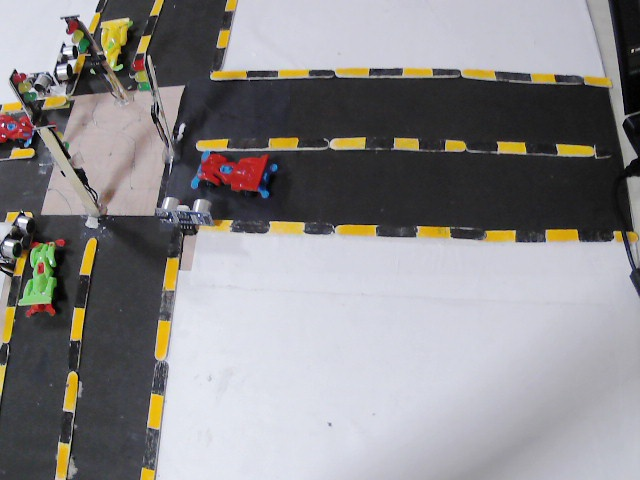black_strip: (136, 426, 158, 466), (61, 337, 86, 371), (227, 136, 274, 152), (5, 273, 25, 306), (72, 275, 94, 305), (53, 413, 75, 442), (375, 223, 417, 238), (154, 291, 173, 324), (295, 134, 333, 150), (150, 361, 167, 395), (131, 39, 154, 63), (524, 138, 557, 154), (494, 70, 531, 84), (301, 221, 335, 236), (419, 138, 447, 156), (452, 225, 487, 239), (369, 66, 400, 81), (249, 69, 281, 83), (365, 136, 396, 150), (206, 47, 227, 67), (554, 71, 581, 86), (580, 227, 613, 239), (433, 66, 463, 79), (518, 228, 547, 241), (467, 140, 498, 151), (309, 68, 337, 79), (255, 221, 276, 235), (146, 10, 162, 26), (218, 13, 236, 27), (1, 396, 5, 452), (71, 60, 82, 78), (95, 0, 109, 14), (0, 345, 11, 360), (0, 145, 11, 158)
car: (17, 235, 70, 319), (197, 153, 271, 199), (96, 14, 136, 73), (0, 115, 34, 144)
mixed_lane: (195, 218, 640, 243), (139, 235, 183, 480), (56, 237, 98, 477), (208, 70, 613, 85), (191, 142, 596, 156), (0, 246, 28, 434), (130, 0, 162, 74), (209, 0, 237, 76), (61, 56, 84, 95), (87, 0, 111, 28), (0, 143, 36, 159), (1, 101, 24, 113)
traffic_light: (38, 120, 82, 180), (7, 66, 49, 120), (61, 6, 97, 67), (146, 91, 169, 141)
uno_breadboard: (0, 208, 40, 268), (163, 196, 211, 226), (54, 39, 76, 84), (24, 70, 55, 93)
yellow_strip: (60, 370, 83, 413), (153, 320, 171, 358), (336, 223, 375, 240), (146, 393, 164, 429), (79, 240, 97, 276), (159, 258, 179, 288), (69, 307, 86, 339), (0, 308, 16, 342), (53, 442, 69, 475), (556, 144, 593, 158), (418, 226, 452, 241), (332, 137, 365, 152), (223, 222, 261, 235), (208, 69, 249, 81), (495, 140, 526, 154), (547, 228, 579, 241), (582, 74, 610, 88), (273, 221, 302, 234), (466, 69, 494, 82), (195, 138, 227, 149), (0, 99, 22, 115), (335, 68, 370, 78), (486, 229, 515, 241), (279, 68, 307, 80), (12, 146, 35, 159), (273, 136, 294, 150), (138, 24, 156, 40), (211, 32, 233, 45), (14, 250, 27, 272), (41, 97, 66, 108), (399, 70, 433, 78), (394, 138, 418, 149), (531, 73, 553, 84), (446, 140, 464, 152), (1, 360, 6, 392), (613, 231, 628, 241), (225, 2, 236, 15), (141, 469, 154, 480), (90, 13, 100, 26)
